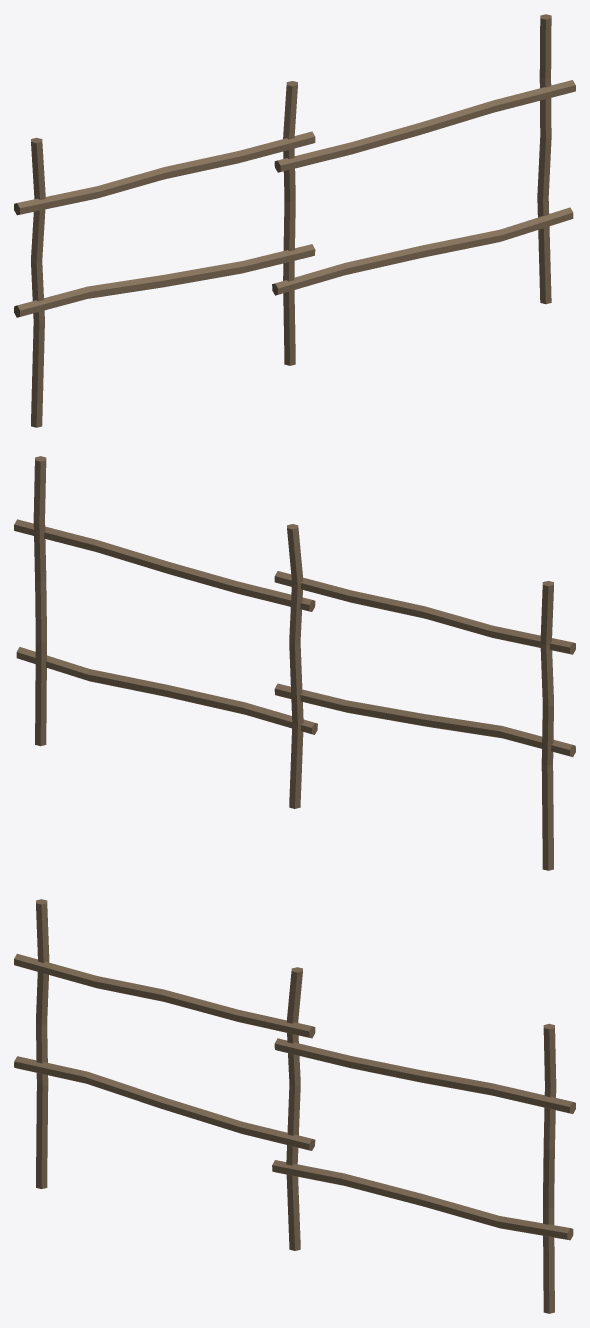
The model's file is fence_a_2m_node.FBX.
3 renders of one model, top to bottom at view 1: azimuth 30°, elevation 25°; view 2: azimuth 150°, elevation 25°; view 3: azimuth 330°, elevation 25°, orthographic.
Visible parts, largest first — view 1: fence_a_2m_node; view 2: fence_a_2m_node; view 3: fence_a_2m_node.
Part boxes in pixels (x1,y1,x2,y2): fence_a_2m_node: (14,14,575,427); fence_a_2m_node: (14,456,575,870); fence_a_2m_node: (14,899,575,1313).
Bounding box in the file's own units: 2.19 × 1.07 × 0.0583.
